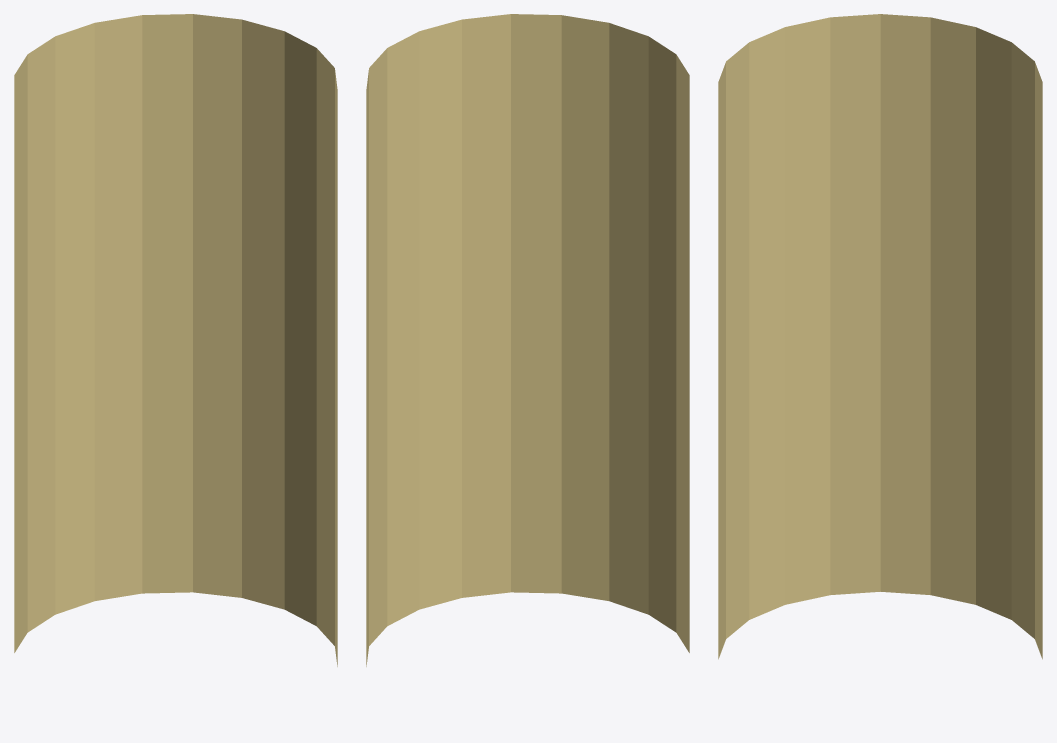
File: battery-cell.gltf
The picture shows the model from 3 angles, left to right: view 1: azimuth 30°, elevation 25°; view 2: azimuth 150°, elevation 25°; view 3: azimuth 270°, elevation 25°; orthographic projection.
Parts seen in each view (by area): view 1: BatteryCell; view 2: BatteryCell; view 3: BatteryCell.
Boxes of the visible parts, bbox=[...] form: BatteryCell: bbox=[14, 14, 337, 666]; BatteryCell: bbox=[366, 14, 689, 666]; BatteryCell: bbox=[718, 14, 1042, 659].
Size of the model in its own units: 0.56 by 1.1 by 0.56.
